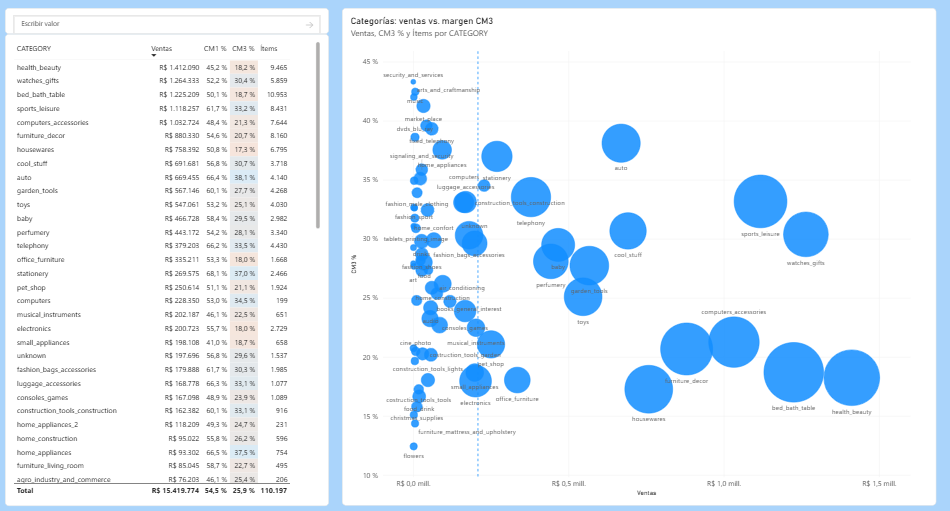

The page's visual inventory and layout, read from the dashboard file:
{"tool":"powerbi","page":{"name":"Producto","canvas":[1920,1080],"ordinal":1},"visuals":[{"type":"tableEx","fields":{"Values":["DIM_PRODUCTS.CATEGORY","_Medidas.Ventas","_Medidas.CM1 %","_Medidas.CM3 %","_Medidas.Ítems"]},"box":[49.1,100.1,636.2,926.8],"z":0},{"type":"scatterChart","title":"Categorías: ventas vs. margen CM3","fields":{"Category":["DIM_PRODUCTS.CATEGORY"],"Size":["_Medidas.Ítems"],"X":["_Medidas.Ventas"],"Y":["_Medidas.CM3 %"]},"box":[710,50,1166.7,976.7],"z":1},{"type":"textSlicer","box":[49.1,49.1,636.2,51.1],"z":2}]}

Visuals, with their boxes on the page's 1920x1080 design canvas (x1, y1, x2, y2). These are canvas units, not pixel positions in the 950x511 screenshot, which may show the page scaled, cropped or inside an application window:
tableEx - DIM_PRODUCTS.CATEGORY x _Medidas.Ventas: x1=49 y1=100 x2=685 y2=1027
"Categorías: ventas vs. margen CM3" scatterChart: x1=710 y1=50 x2=1877 y2=1027
textSlicer: x1=49 y1=49 x2=685 y2=100
